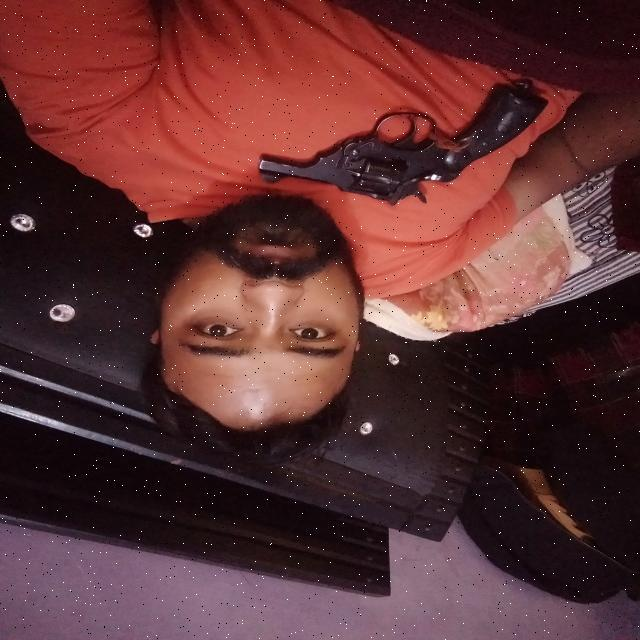gun: (232, 66, 565, 216)
